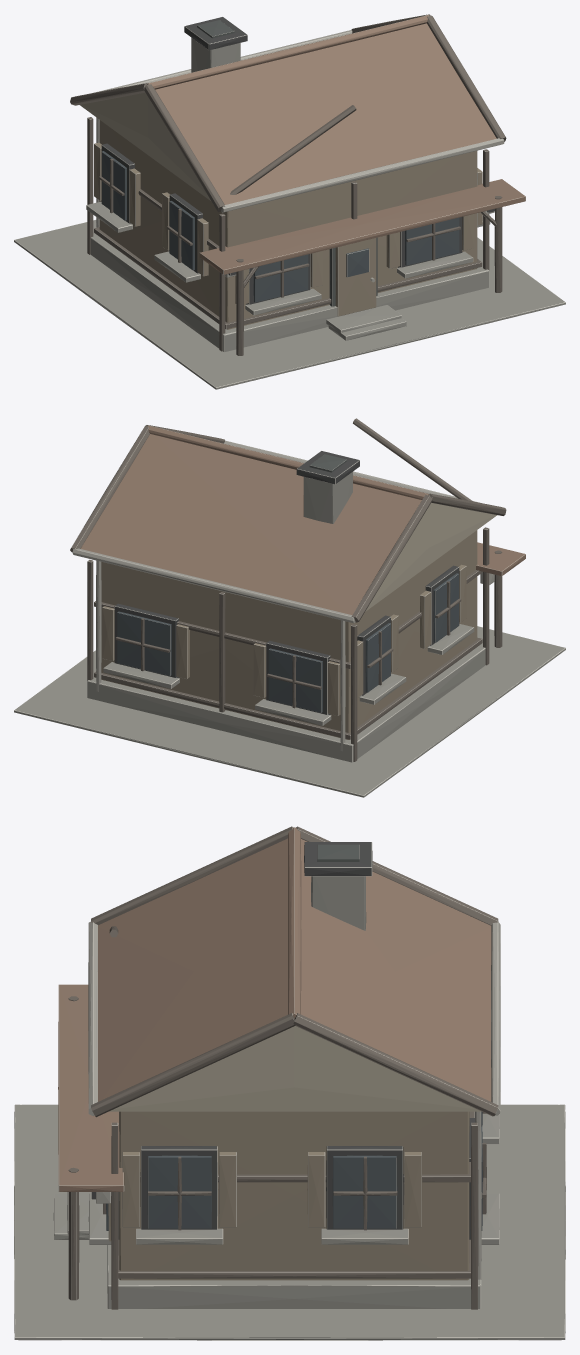
File: district_art_2.glb
3 views of the same model, one above another, from view 1: azimuth 30°, elevation 25°; view 2: azimuth 150°, elevation 25°; view 3: azimuth 270°, elevation 25° (orthographic). The views are drawn at different scales.
Parts seen in each view (by area): view 1: roof, stone, wood, timber, glass, plaster, metal, trim, dark; view 2: roof, stone, wood, timber, glass, metal, trim, plaster; view 3: roof, stone, wood, timber, plaster, glass, trim, metal, dark.
Boxes of the visible parts, bbox=[...] form: roof: bbox=[147, 15, 525, 274]; stone: bbox=[14, 37, 565, 389]; wood: bbox=[94, 120, 482, 329]; timber: bbox=[70, 14, 506, 355]; glass: bbox=[101, 151, 459, 302]; plaster: bbox=[80, 92, 210, 200]; metal: bbox=[95, 30, 504, 282]; trim: bbox=[101, 17, 494, 304]; dark: bbox=[197, 20, 377, 306]; roof: bbox=[80, 425, 525, 614]; stone: bbox=[14, 472, 565, 797]; wood: bbox=[101, 530, 477, 739]; timber: bbox=[70, 418, 506, 761]; glass: bbox=[117, 573, 458, 712]; metal: bbox=[72, 440, 494, 751]; trim: bbox=[114, 451, 494, 714]; plaster: bbox=[365, 503, 497, 611]; roof: bbox=[58, 827, 491, 1191]; stone: bbox=[14, 876, 565, 1340]; wood: bbox=[108, 1111, 469, 1280]; timber: bbox=[68, 826, 498, 1309]; plaster: bbox=[109, 1026, 481, 1111]; glass: bbox=[106, 1111, 482, 1230]; trim: bbox=[91, 842, 474, 1239]; metal: bbox=[88, 921, 500, 1279]; dark: bbox=[317, 844, 359, 861].
Size of the model in its own units: 12.5 by 8.39 by 12.5.
